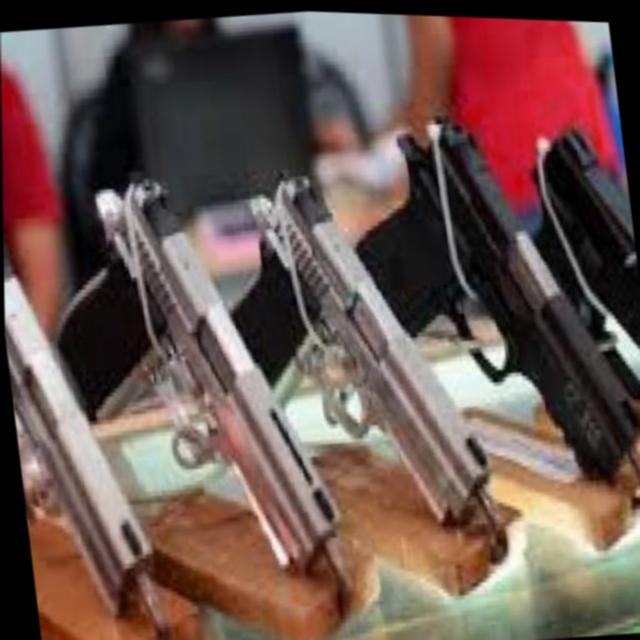weapon: (327, 76, 639, 496), (206, 143, 494, 566), (82, 164, 350, 614), (2, 207, 170, 640), (510, 110, 640, 406)
